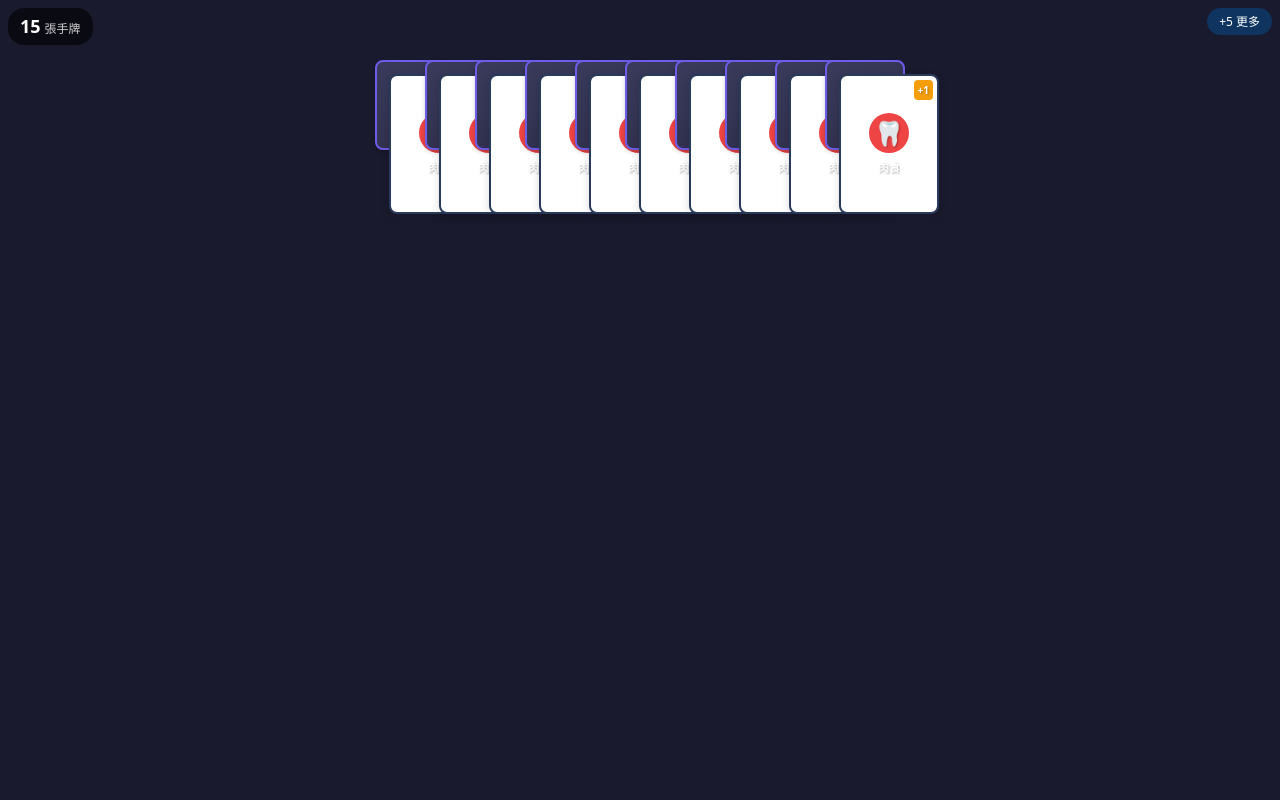
Scenario: Hand › Expanded View › should close expanded view when overlay clicked
Click the button with test id "expand-button" at (1240, 22), box [1207,8,1272,35]
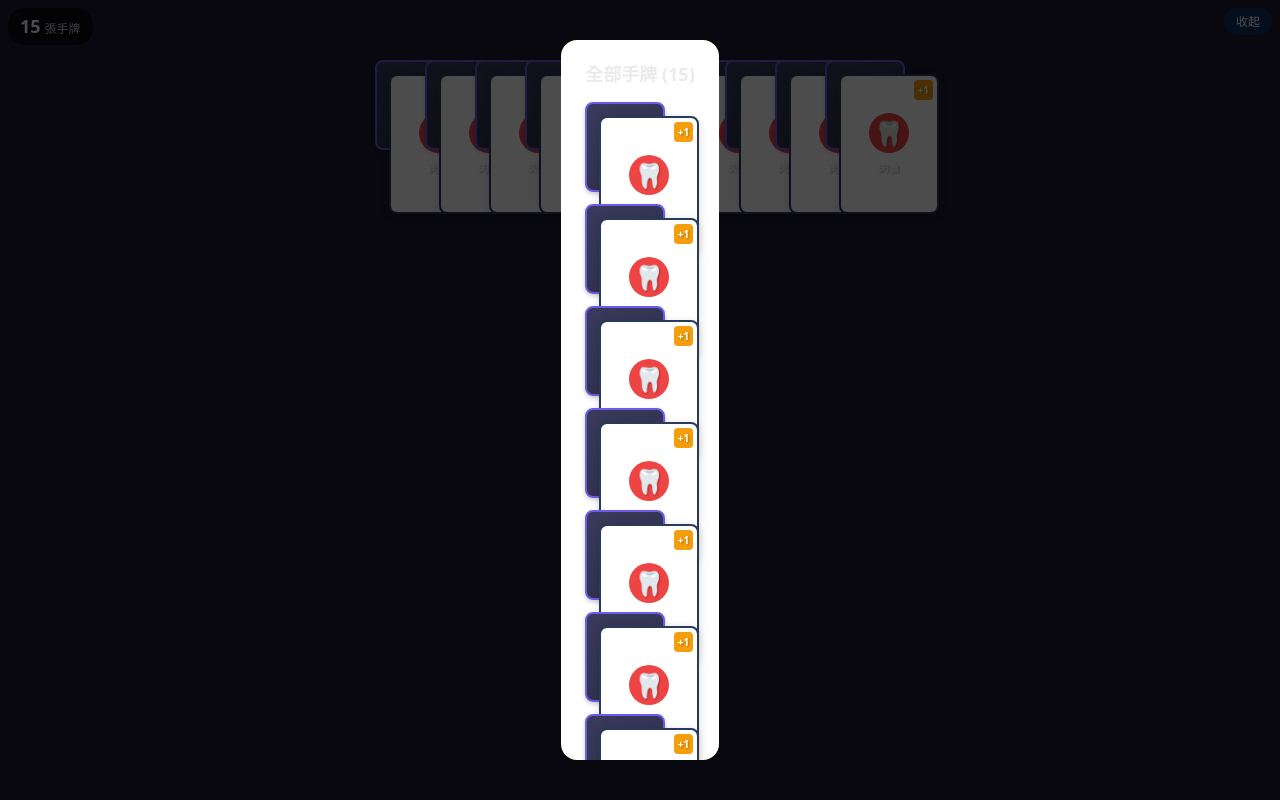
Click the element with test id "expanded-overlay" at (77, 400), box [0,0,1279,799]
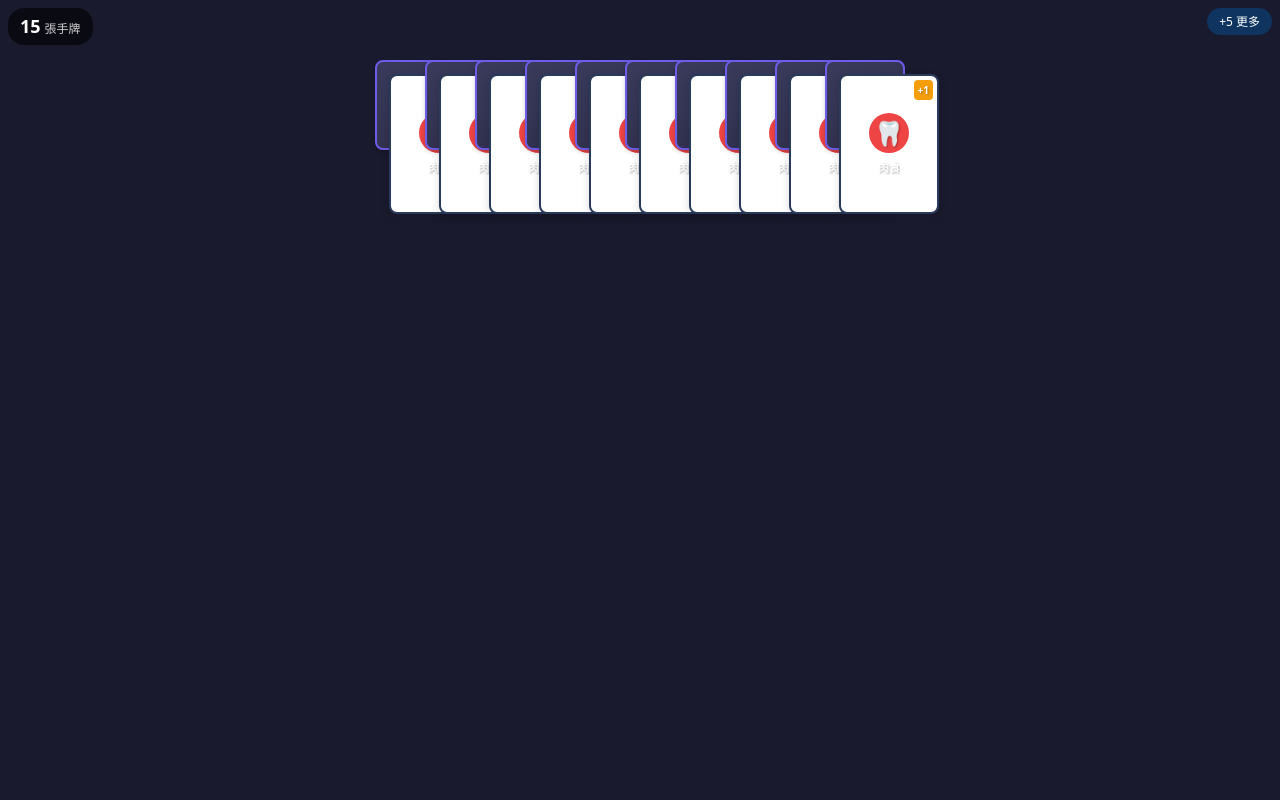
Result: the element with test id "expanded-overlay" is gone
